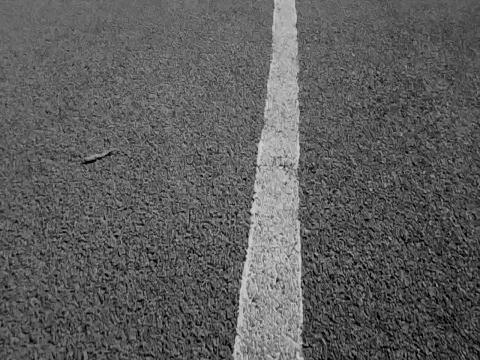Lines: (230, 0, 305, 360)
